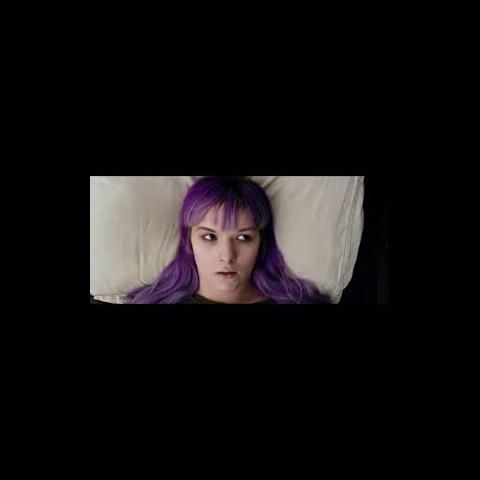opened: (194, 220, 258, 250)
